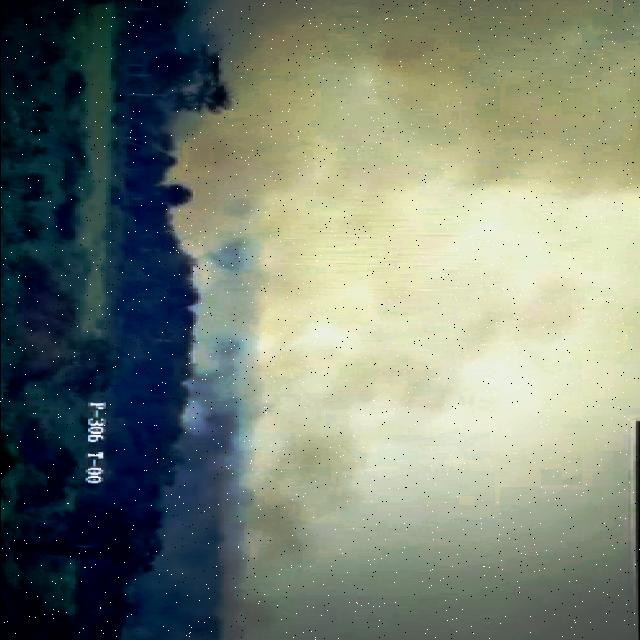asap: (106, 345, 572, 640), (116, 2, 640, 262), (132, 177, 640, 442)
